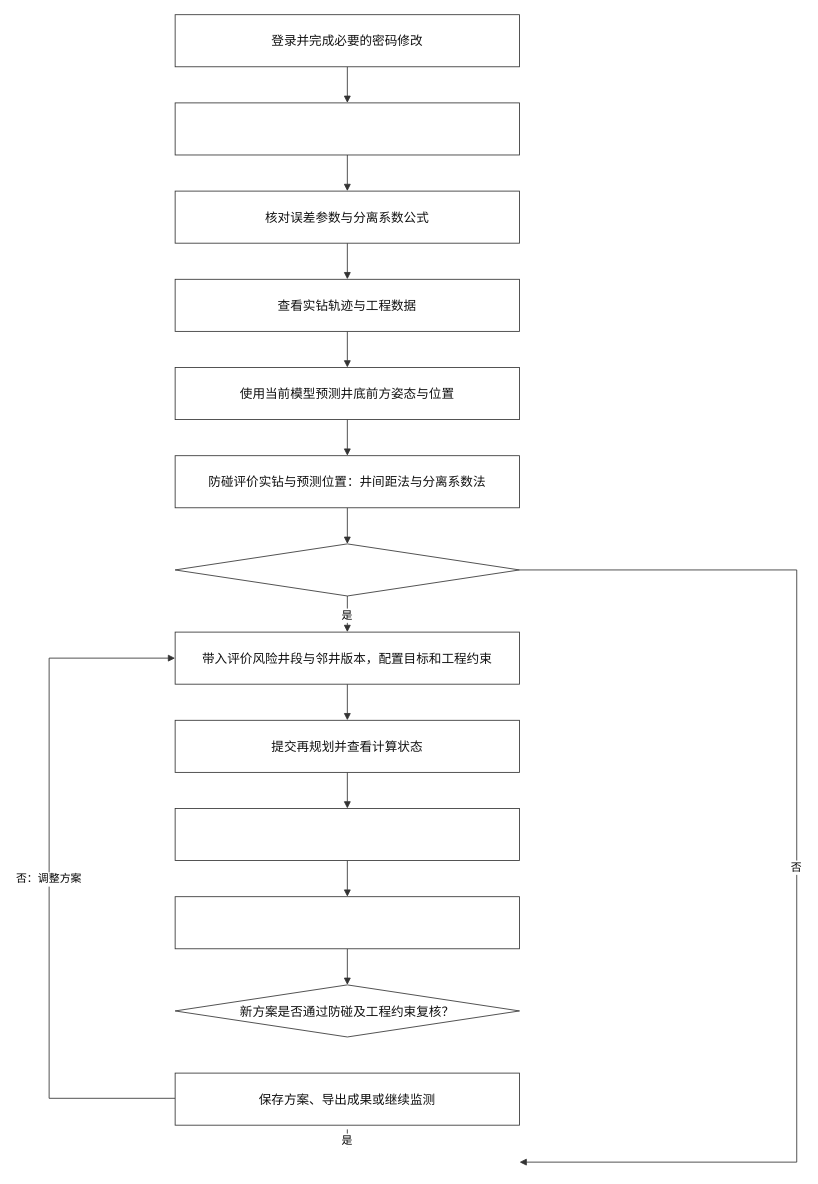
The diagram is 818 pixels wide and 1184 high, and some of its shapes have lost their labels. Here are the shapes that lost their labels. From the top down, the box of each, then its label:
(174, 102, 520, 155): 沿工程树选择井眼及版本
(174, 543, 520, 596): 预测或实钻轨迹是否存在防碰风险？
(174, 808, 520, 861): 审查轨道表、二维和三维结果
(174, 896, 520, 949): 再规划候选方案再次执行防碰评价
